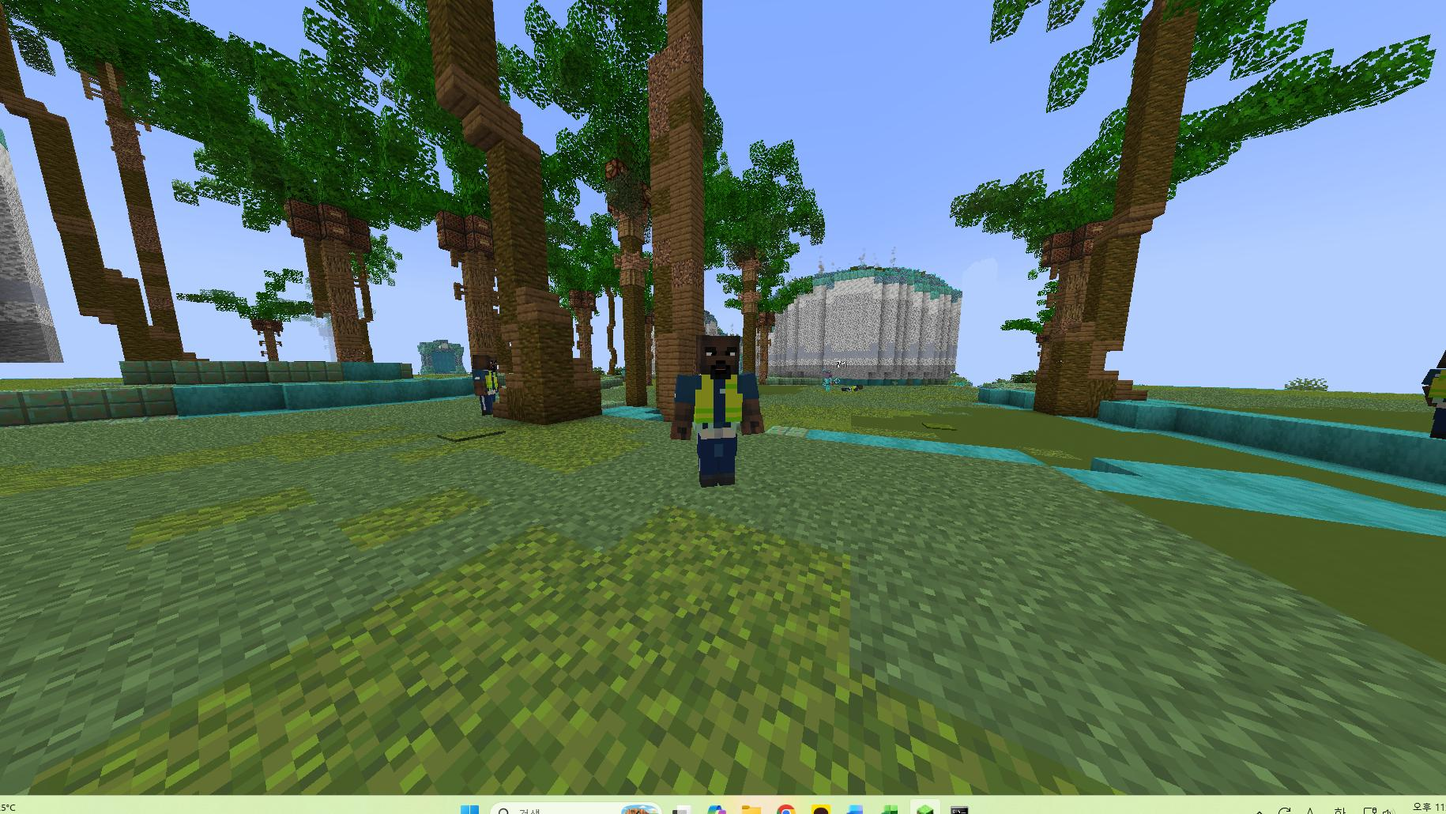Guardian: (671, 336, 763, 487)
